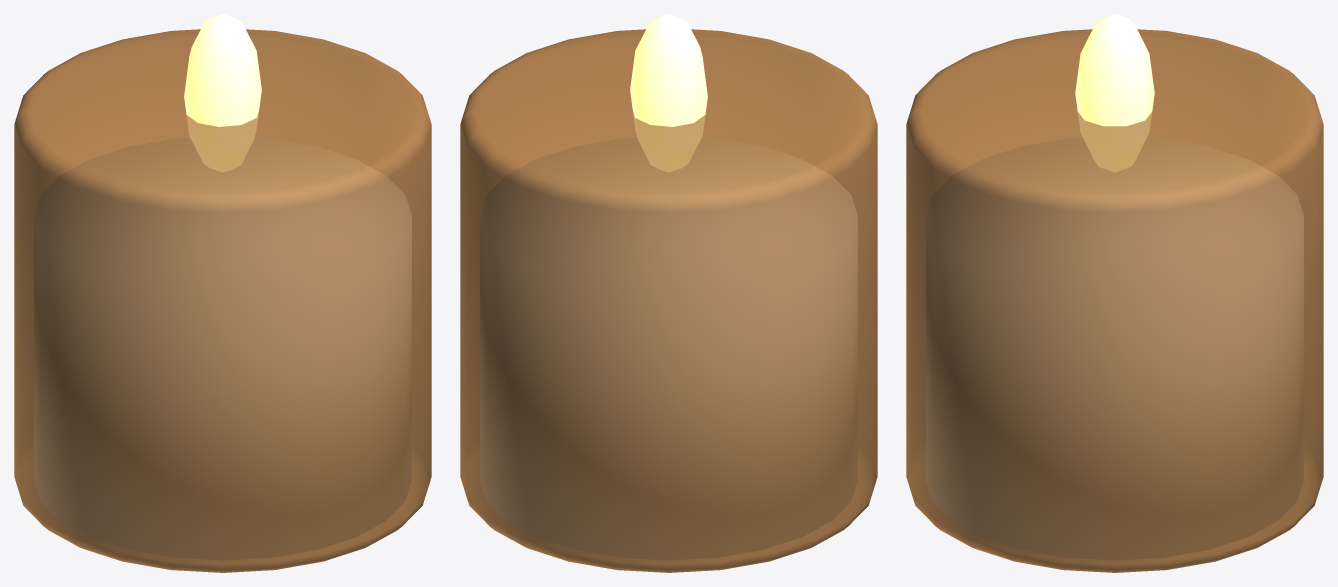
Rendered from candle.glb.
3 views of the same model, side by side, from view 1: azimuth 30°, elevation 25°; view 2: azimuth 150°, elevation 25°; view 3: azimuth 270°, elevation 25° (orthographic).
Parts seen in each view (by area): view 1: candle_cup, candle_wax, candle_flame; view 2: candle_cup, candle_wax, candle_flame; view 3: candle_cup, candle_wax, candle_flame.
Boxes of the visible parts, x1,y1,x2,y2 form: candle_cup: (14,29,431,572); candle_wax: (34,138,411,560); candle_flame: (184,14,261,171); candle_cup: (460,29,877,572); candle_wax: (480,138,857,560); candle_flame: (630,14,707,171); candle_cup: (906,29,1323,572); candle_wax: (926,138,1303,560); candle_flame: (1075,14,1154,171).
Bounding box in the file's own units: 0.042 × 0.0528 × 0.042.
